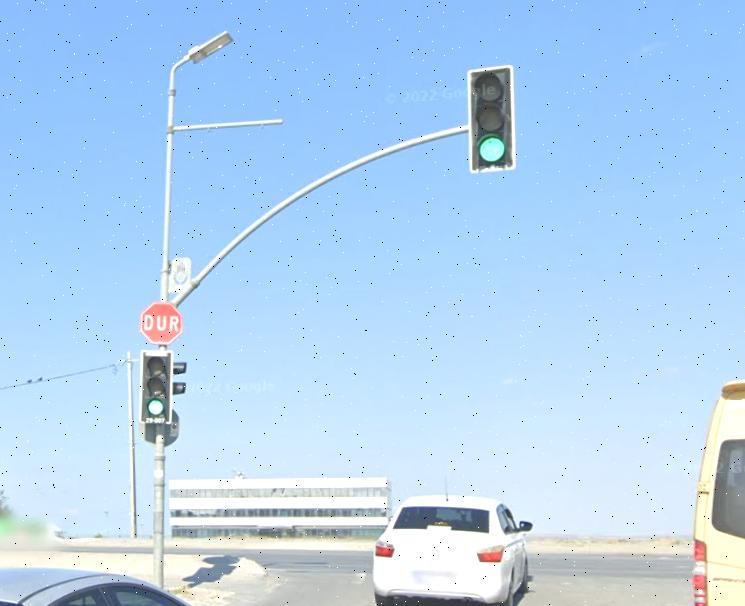greenlight: (467, 70, 514, 172), (141, 354, 172, 425)
stop: (143, 303, 183, 343)
